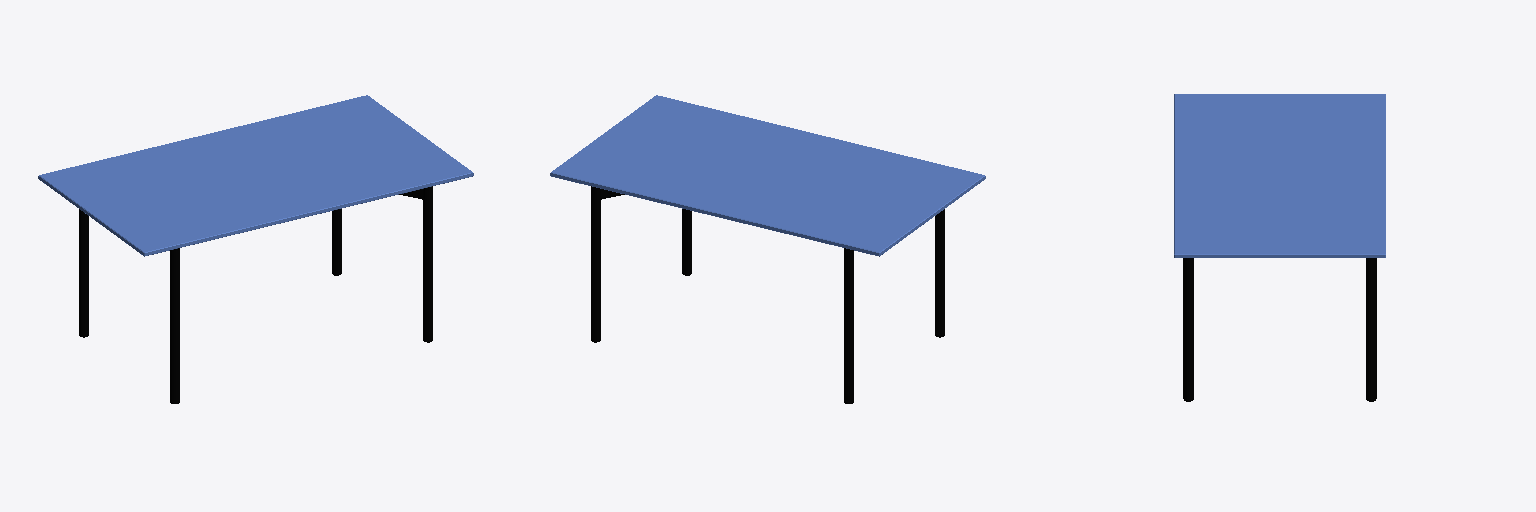
Rendered from metal_glass_table.obj.
3 views of the same model, side by side, from view 1: azimuth 30°, elevation 25°; view 2: azimuth 150°, elevation 25°; view 3: azimuth 270°, elevation 25° (orthographic).
Parts seen in each view (by area): view 1: toptable_Cube.001, potes_table_Cylinder; view 2: toptable_Cube.001, potes_table_Cylinder; view 3: toptable_Cube.001, potes_table_Cylinder.
Part boxes in pixels (x1,y1,x2,y2): toptable_Cube.001: (38, 95, 473, 256); potes_table_Cylinder: (79, 186, 432, 403); toptable_Cube.001: (550, 95, 985, 256); potes_table_Cylinder: (591, 186, 944, 403); toptable_Cube.001: (1174, 94, 1385, 257); potes_table_Cylinder: (1183, 258, 1376, 401).
Size of the model in its own units: 1.61 by 0.7674 by 0.8968.